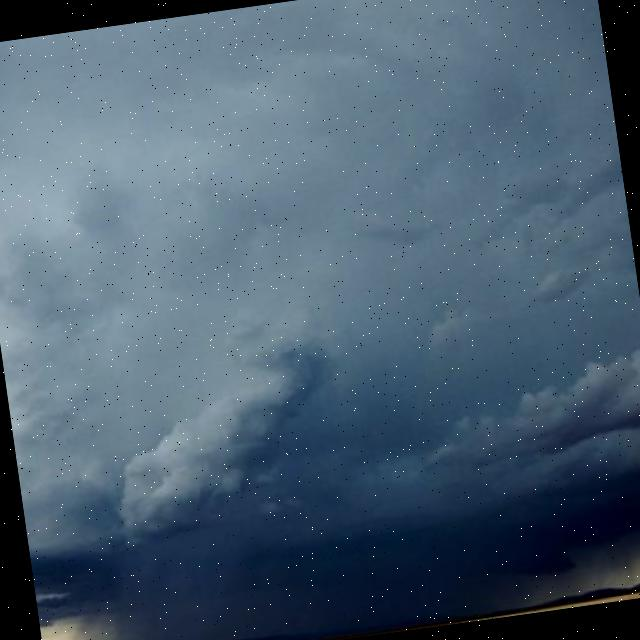Cb: (1, 67, 640, 640)
